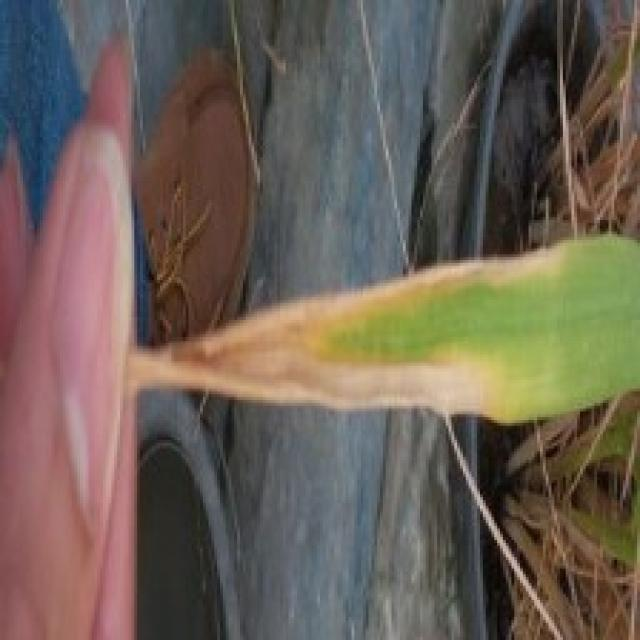Rice___Bacterial_Leaf_Blight: (132, 231, 637, 424)
